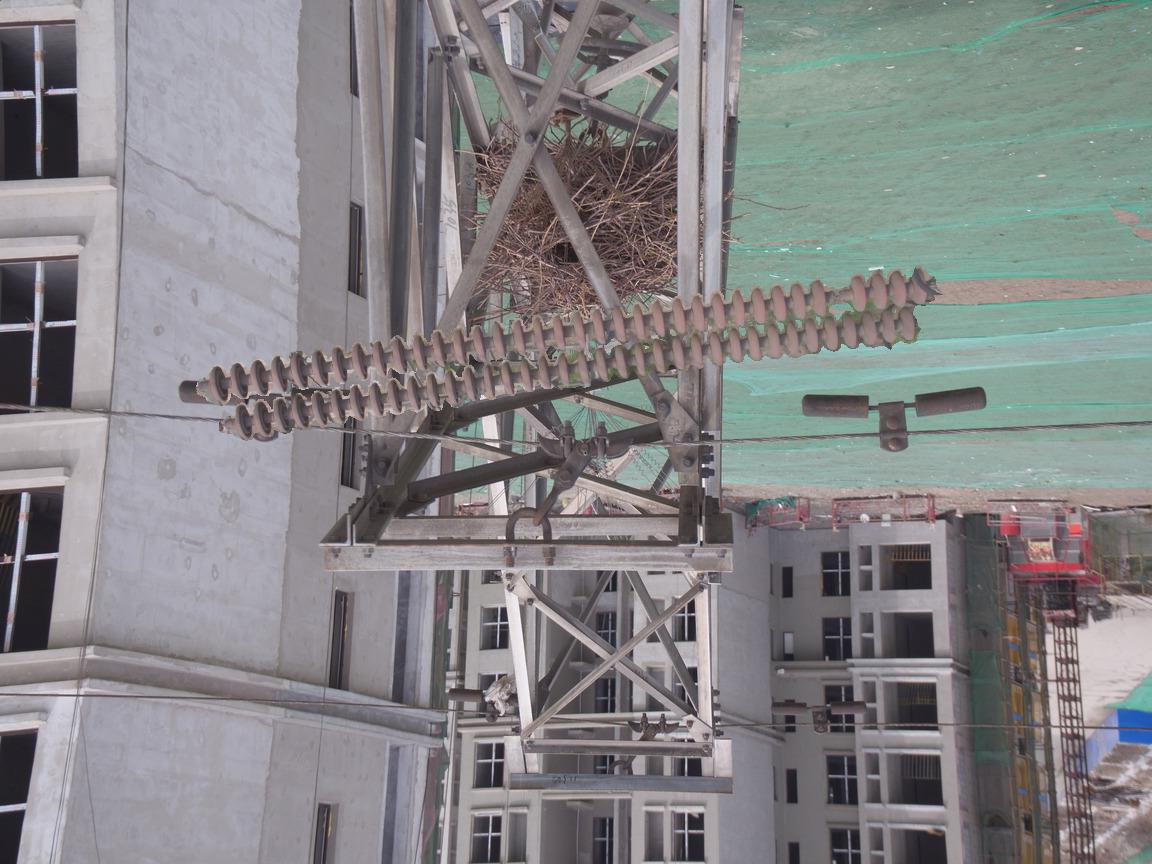insulator: (200, 264, 933, 443)
insulator_stringdrop: (808, 272, 870, 320)
